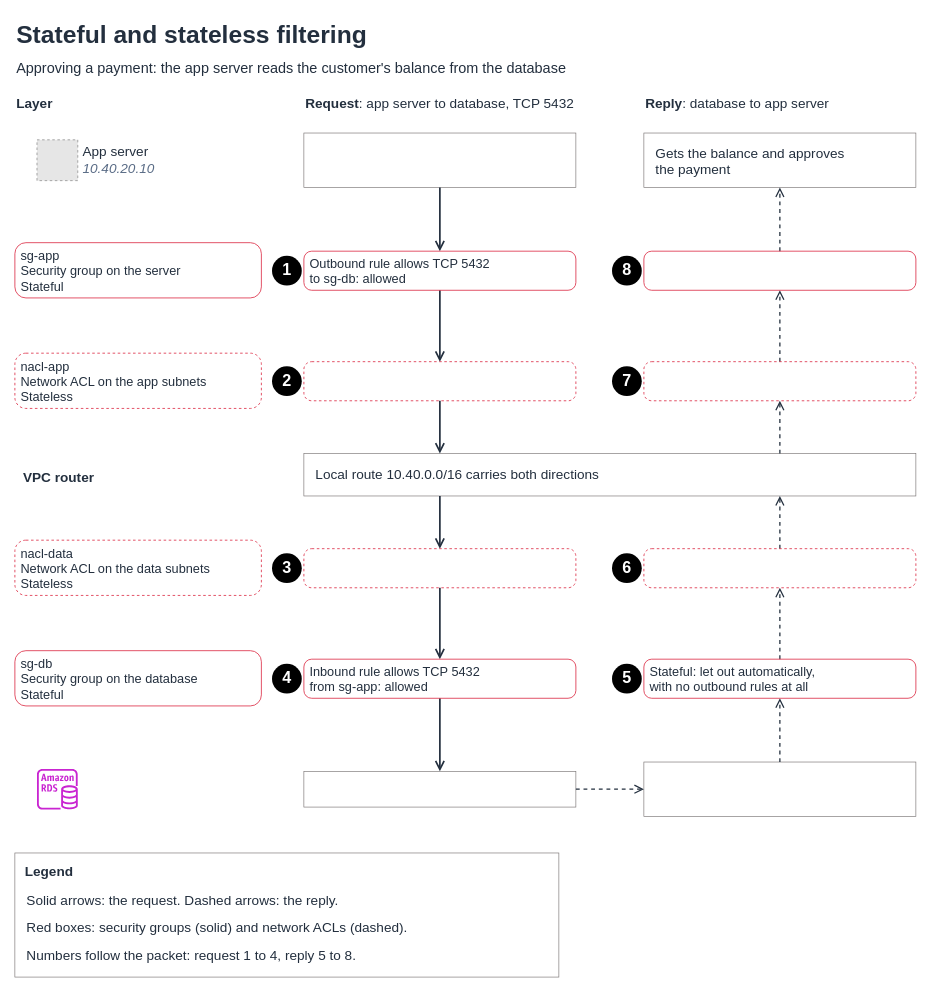
The diagram is 931 pixels wide and 992 high, and some of its shapes have lost their labels. Grey dashed boxes stand in for pictures. Each missing label, with the centre of its shape:
"Amazon RDS PostgreSQL, 10.40.30.10" belongs at point 57,788.
"Answers from TCP 5432 to the app server's ephemeral port" belongs at point 779,788.
"Inbound rule 100 allows TCP 5432 from 10.40.20.0/23: allowed" belongs at point 439,568.
"Opens a connection from an ephemeral port (32768-61000) to TCP 5432" belongs at point 439,159.
"Outbound rule 100 allows TCP 5432 to 10.40.30.0/23: allowed" belongs at point 439,381.
"Runs the balance query" belongs at point 439,789.
"Stateful: let in automatically, no inbound rule needed" belongs at point 779,270.
"Stateless: inbound rule 110 must allow TCP 1024-65535" belongs at point 779,381.
"Stateless: outbound rule 100 must allow TCP 1024-65535 back" belongs at point 779,568.
